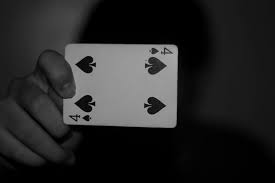four of spades: (61, 43, 179, 127)
